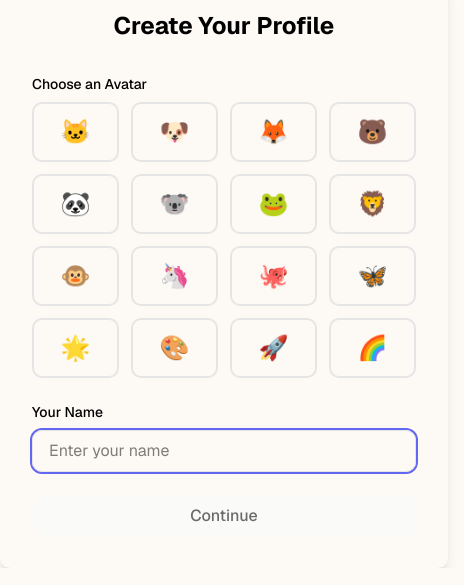
CreateUserForm › form submission › shows loading state during submission
In the field with placeholder "Enter your name": {"x": 224, "y": 451} top-left (32, 430), bottom-right (416, 472), type "Test User"
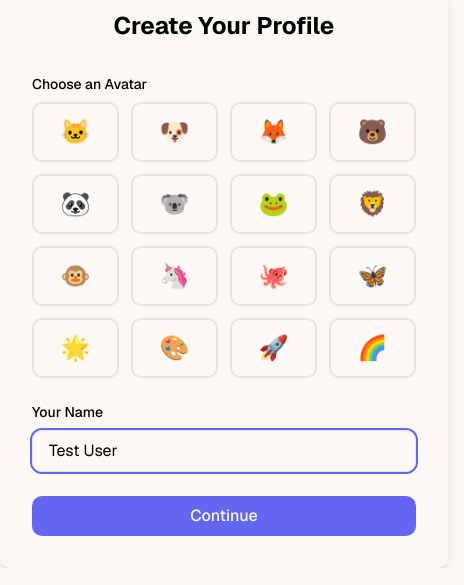
Click the button "Continue": {"x": 224, "y": 516} top-left (32, 496), bottom-right (416, 536)
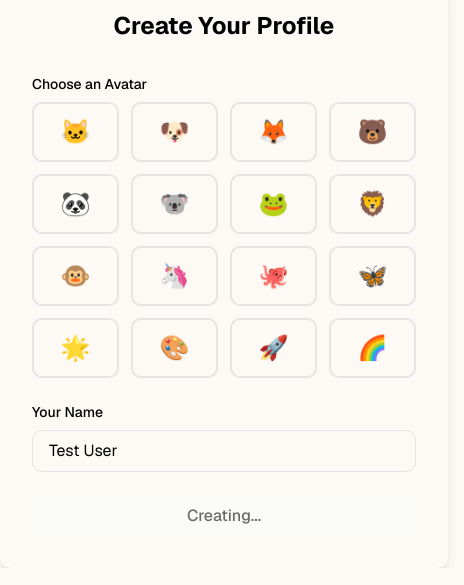
Check: the button "Creating..." is disabled, box top-left (32, 496), bottom-right (416, 536)
